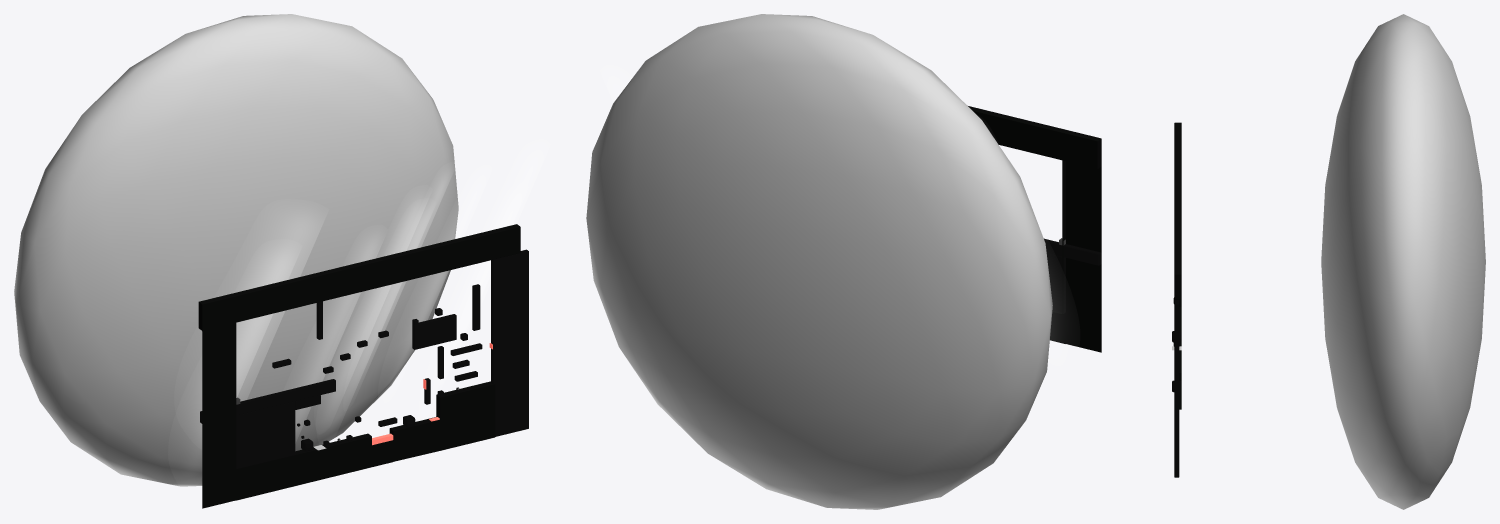
The model's file is level_04.glb.
3 views of the same model, side by side, from view 1: azimuth 30°, elevation 25°; view 2: azimuth 150°, elevation 25°; view 3: azimuth 270°, elevation 25° (orthographic). The views are drawn at different scales.
Visible parts, largest first — view 1: glow, ground.082, light-ray.003, ground.087, ground.086, ground.085, ground.090; view 2: glow, ground.082, ground.086, ground.085; view 3: glow, ground.082, ground.087.
Boxes of the visible parts, left/top/right/bottom form: glow: left=14, top=14, right=458, bottom=486; ground.082: left=198, top=224, right=520, bottom=508; light-ray.003: left=193, top=150, right=543, bottom=449; ground.087: left=491, top=249, right=528, bottom=436; ground.086: left=236, top=401, right=295, bottom=468; ground.085: left=200, top=379, right=335, bottom=423; ground.090: left=412, top=314, right=456, bottom=349; glow: left=586, top=14, right=1052, bottom=509; ground.082: left=968, top=106, right=1101, bottom=352; ground.086: left=1046, top=253, right=1065, bottom=313; ground.085: left=1044, top=238, right=1101, bottom=265; glow: left=1321, top=14, right=1485, bottom=509; ground.082: left=1174, top=122, right=1181, bottom=409; ground.087: left=1174, top=300, right=1179, bottom=477.
Bounding box in the file's own units: 115 × 104 × 65.58.
3 materials, 3 textured.
